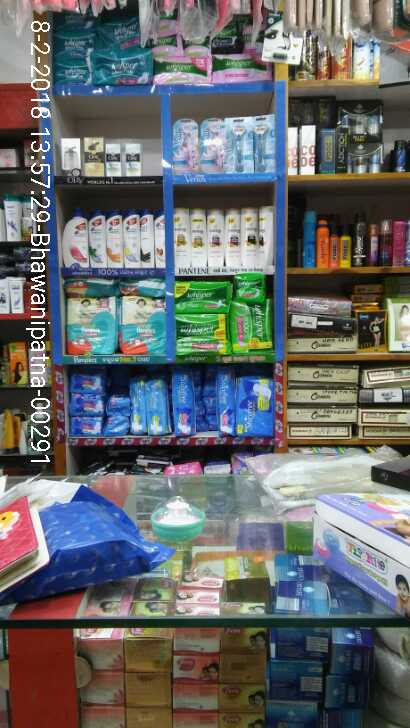gillete: (357, 34, 384, 86)
venus: (226, 119, 252, 172), (198, 119, 226, 168), (252, 114, 274, 172), (175, 119, 198, 168)
